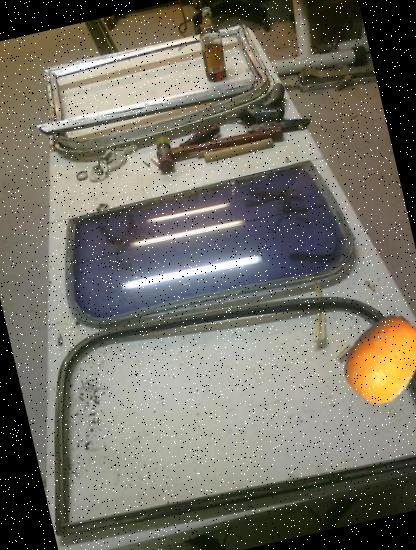Kumquats: (330, 305, 416, 414)
